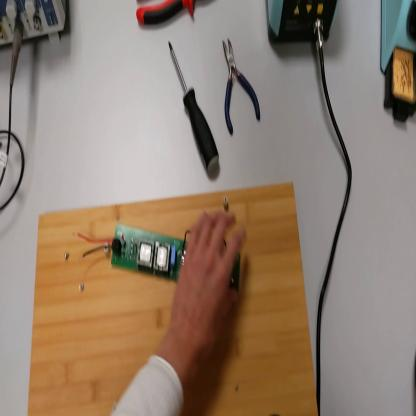hand: (172, 208, 245, 360)
high voltage board: (73, 229, 244, 299)
oscilloscope: (2, 3, 68, 58)
pliers: (216, 32, 264, 136), (136, 3, 213, 25)
screwdriver-: (170, 40, 221, 178)
welder base: (379, 4, 416, 124)
welder station: (266, 1, 337, 49)
working area: (28, 184, 320, 414)
